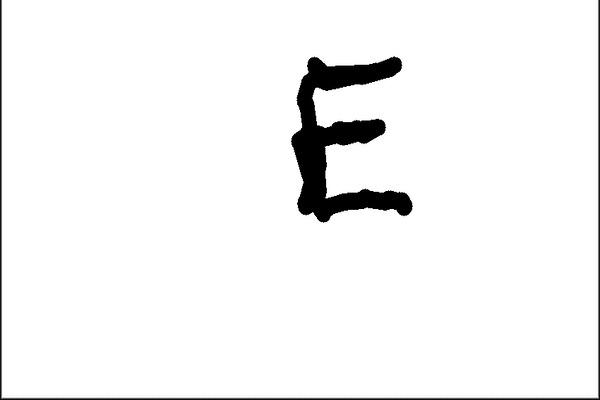E: (286, 52, 423, 226)
